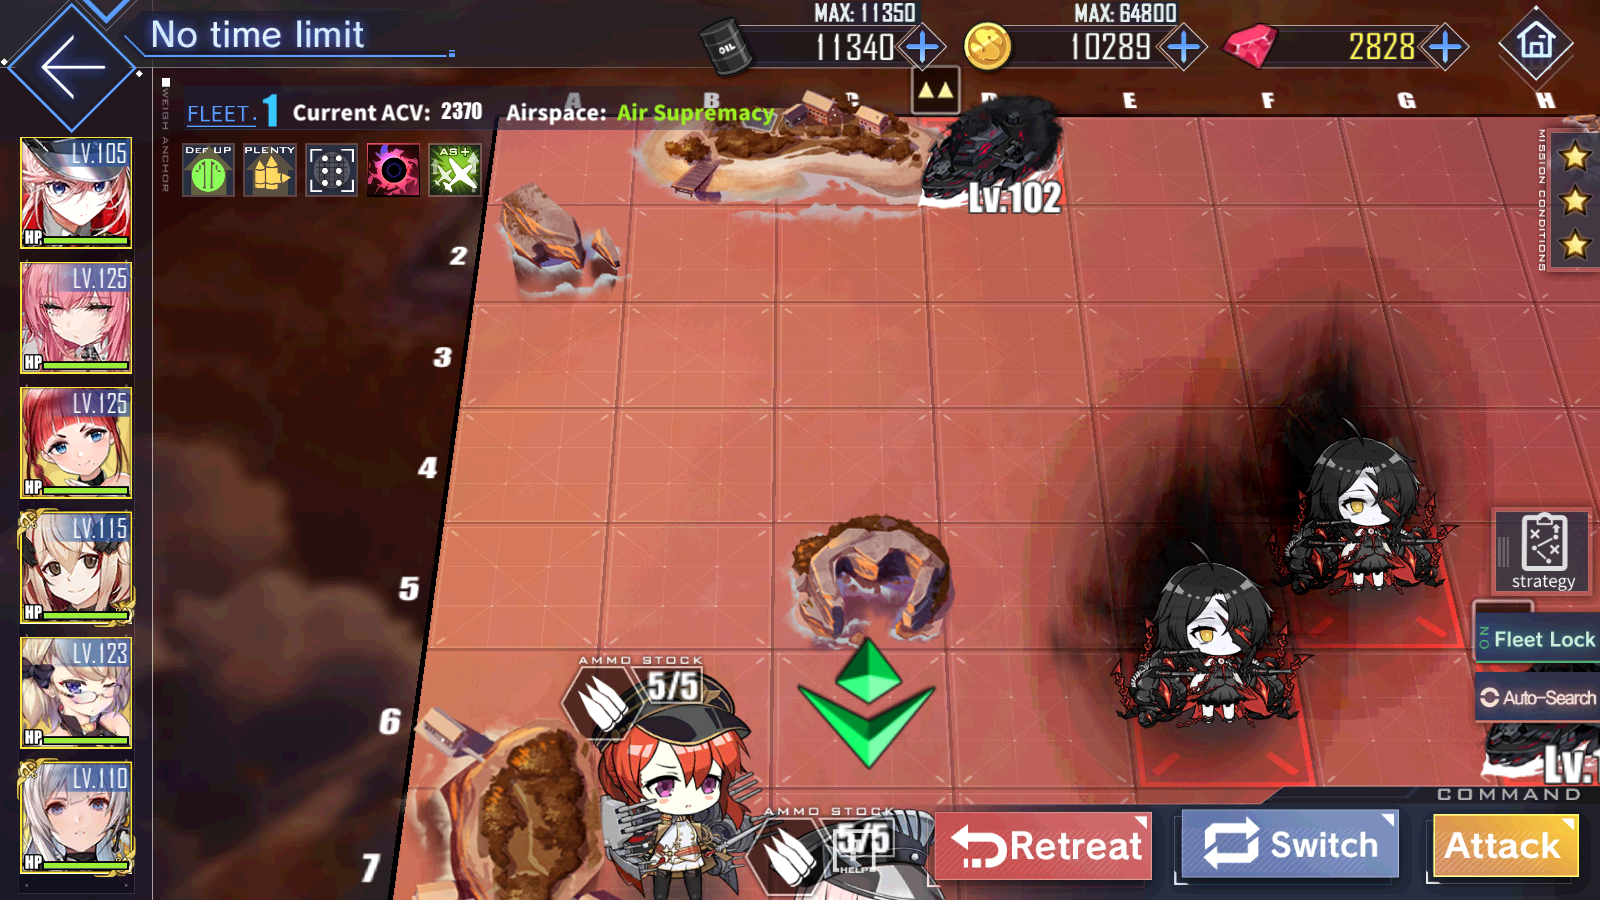elite: (1124, 537, 1312, 785), (1288, 415, 1462, 649)
enemy: (911, 65, 1066, 208)
